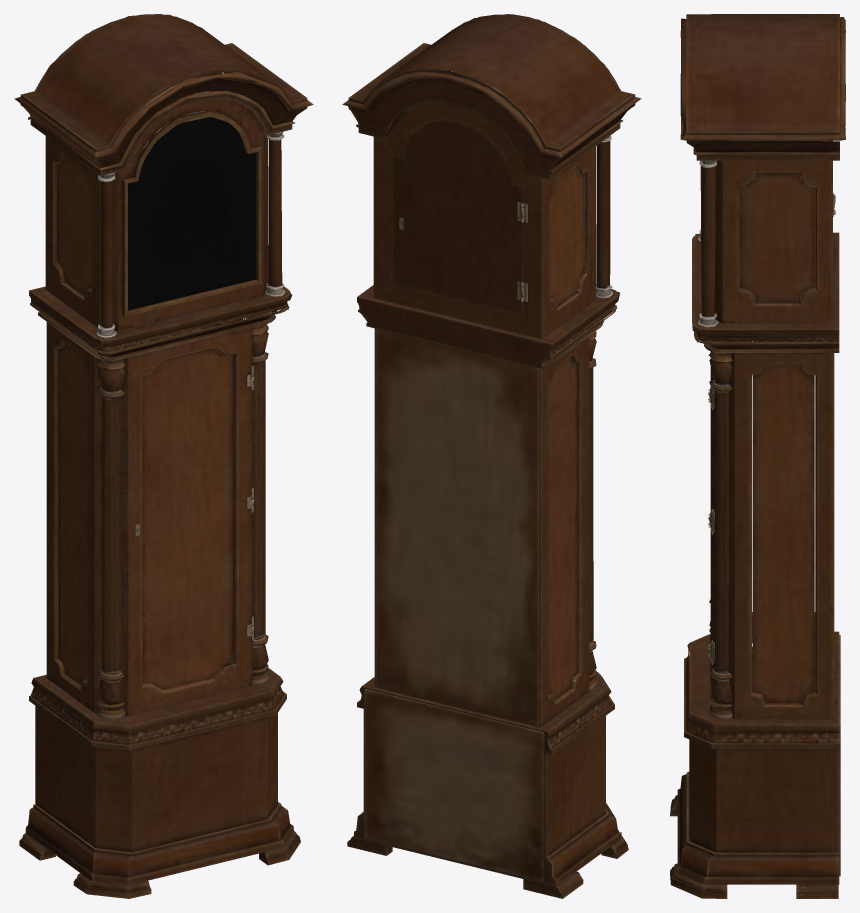
The model's file is ph_vintage_grandfather_clock_01.glb.
3 renders of one model, left to right at view 1: azimuth 30°, elevation 25°; view 2: azimuth 150°, elevation 25°; view 3: azimuth 270°, elevation 25°, orthographic. The views are drawn at different scales.
Parts seen in each view (by area): view 1: vintage_grandfather_clock_01_body; view 2: vintage_grandfather_clock_01_body; view 3: vintage_grandfather_clock_01_body.
Part boxes in pixels (box(x1,y1,x2,y2)): vintage_grandfather_clock_01_body: box(14, 14, 313, 898); vintage_grandfather_clock_01_body: box(342, 14, 641, 898); vintage_grandfather_clock_01_body: box(670, 14, 845, 898).
Size of the model in its own units: 0.6257 by 2.19 by 0.4267.
2 materials, 2 textured.
